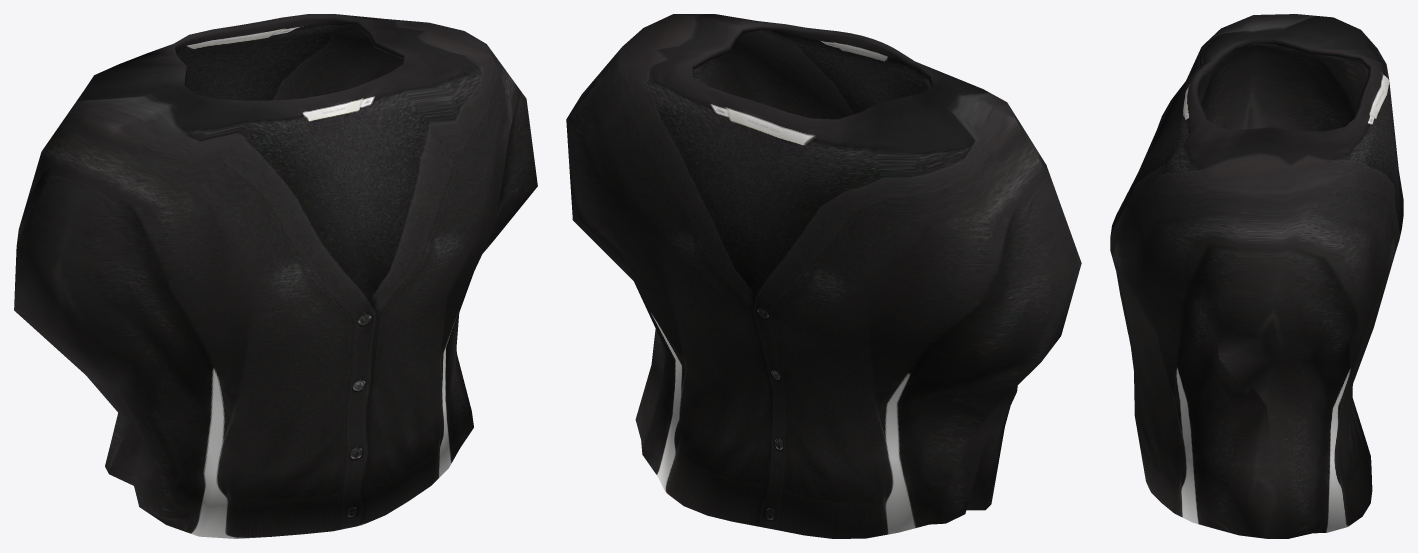
File: 3d6db103-f243-4f69-ba29-45bada5df58e.glb
3 views of the same model, side by side, from view 1: azimuth 30°, elevation 25°; view 2: azimuth 150°, elevation 25°; view 3: azimuth 270°, elevation 25° (orthographic). The views are drawn at different scales.
Parts seen in each view (by area): view 1: garment; view 2: garment; view 3: garment.
Part boxes in pixels (box(x1,y1,x2,y2)): garment: box(14, 14, 537, 538); garment: box(566, 14, 1081, 538); garment: box(1110, 14, 1403, 538).
Bounding box in the file's own units: 0.5726 × 0.4794 × 0.3237.
1 material, 1 textured.
